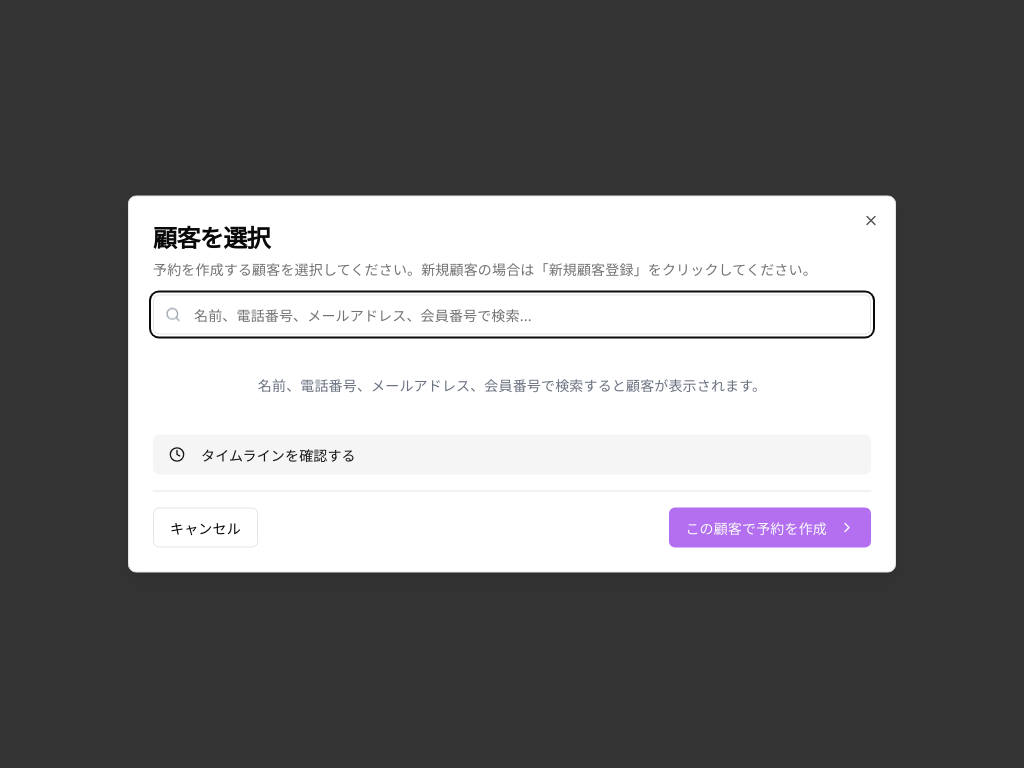
CustomerSelectionDialog › offers new registration only after an exact phone search finishes with no match
Type "090-1234-5678" into the field with placeholder "名前、電話番号、メールアドレス、会員番号で検索...". click: coordinates (512, 314)
box: 153,294 -> 871,334
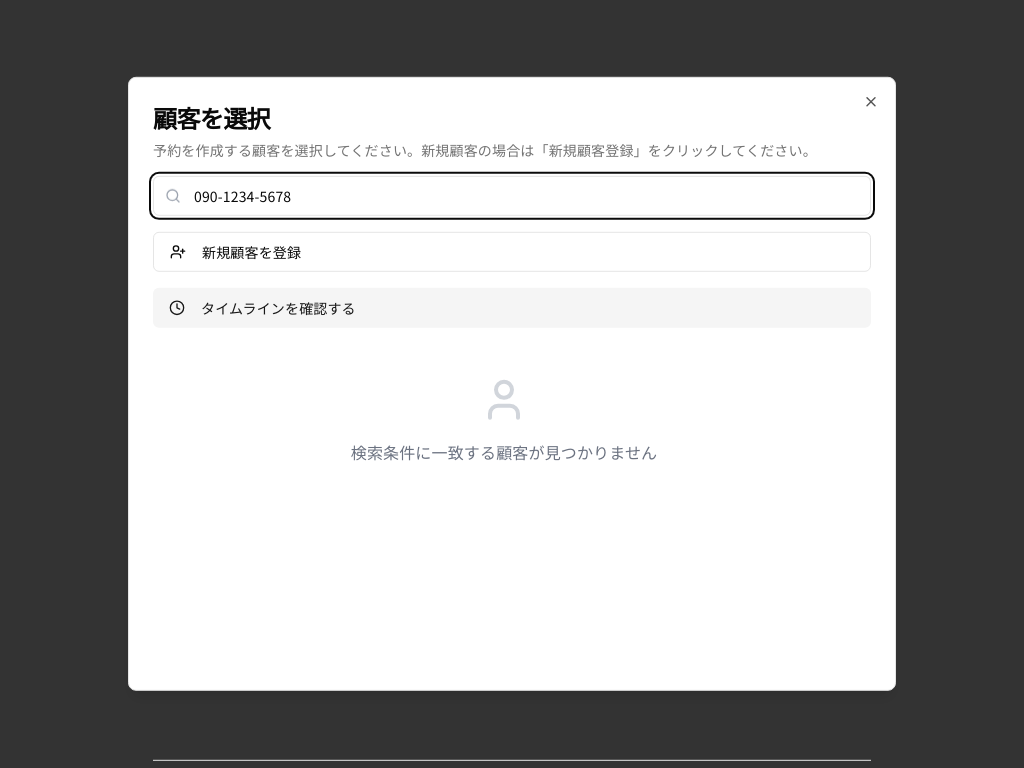
expect the button "新規顧客を登録" is shown: met, box 153,232 -> 871,272
